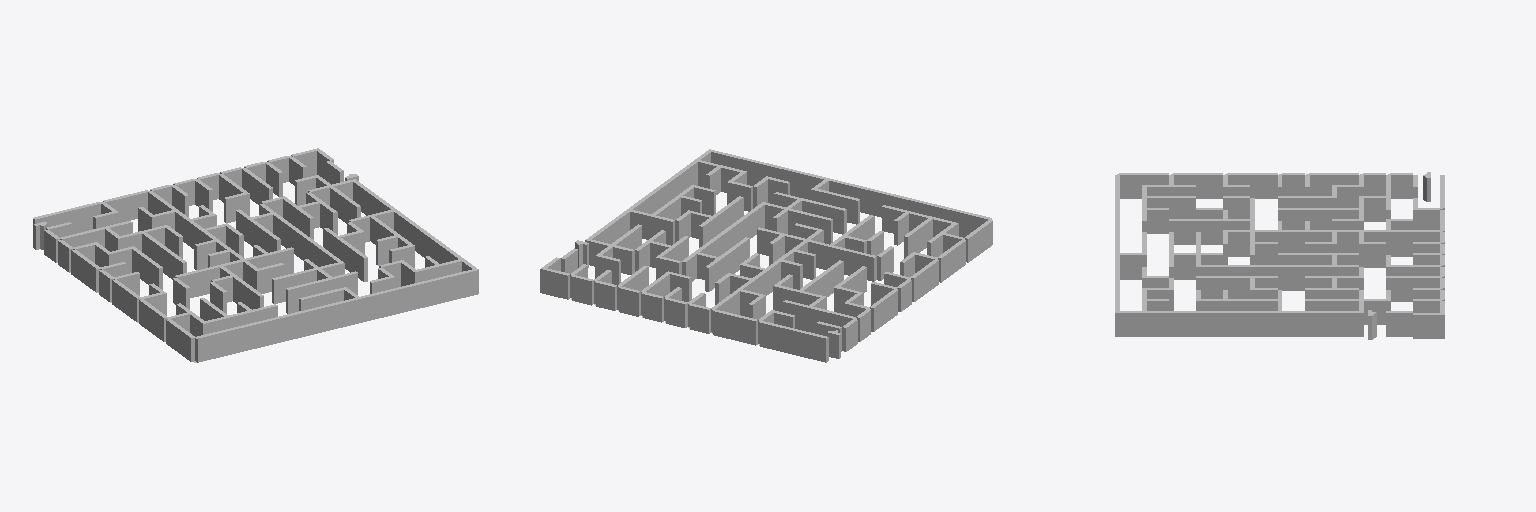
Rendered from maze_walls_1.obj.
3 renders of one model, left to right at view 1: azimuth 30°, elevation 25°; view 2: azimuth 150°, elevation 25°; view 3: azimuth 270°, elevation 25°, orthographic.
Parts seen in each view (by area): view 1: Curve.001_Mesh; view 2: Curve.001_Mesh; view 3: Curve.001_Mesh.
Boxes of the visible parts, x1,y1,x2,y2 form: Curve.001_Mesh: [33, 148, 478, 362]; Curve.001_Mesh: [540, 149, 992, 362]; Curve.001_Mesh: [1115, 172, 1444, 339].
Bounding box in the file's own units: 14.11 × 1.11 × 13.74.